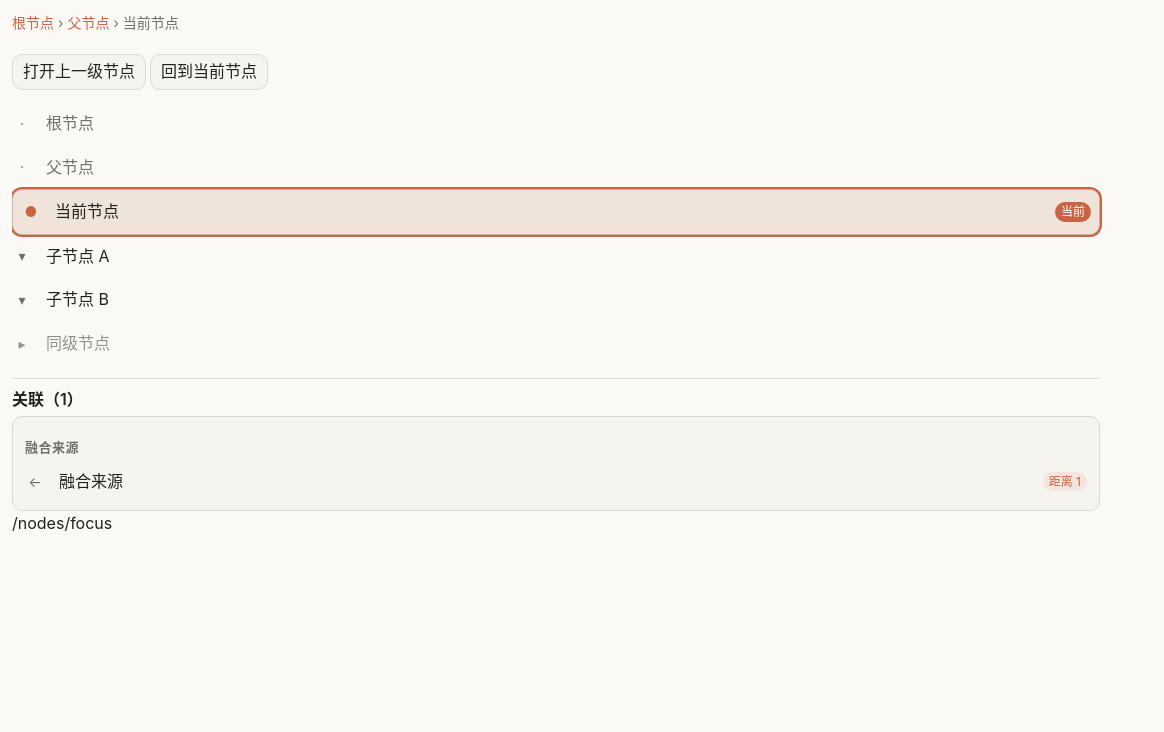
FocusLineage › 打开上一级节点出口跳转到直接上级；回到当前节点把 roving 焦点移回
Expected: the list named "专注脉络" is shown, x1=12 y1=102 x2=1100 y2=366
Click the button with test id "focus-open-parent".
click(79, 72)  # box x1=12 y1=54 x2=146 y2=90
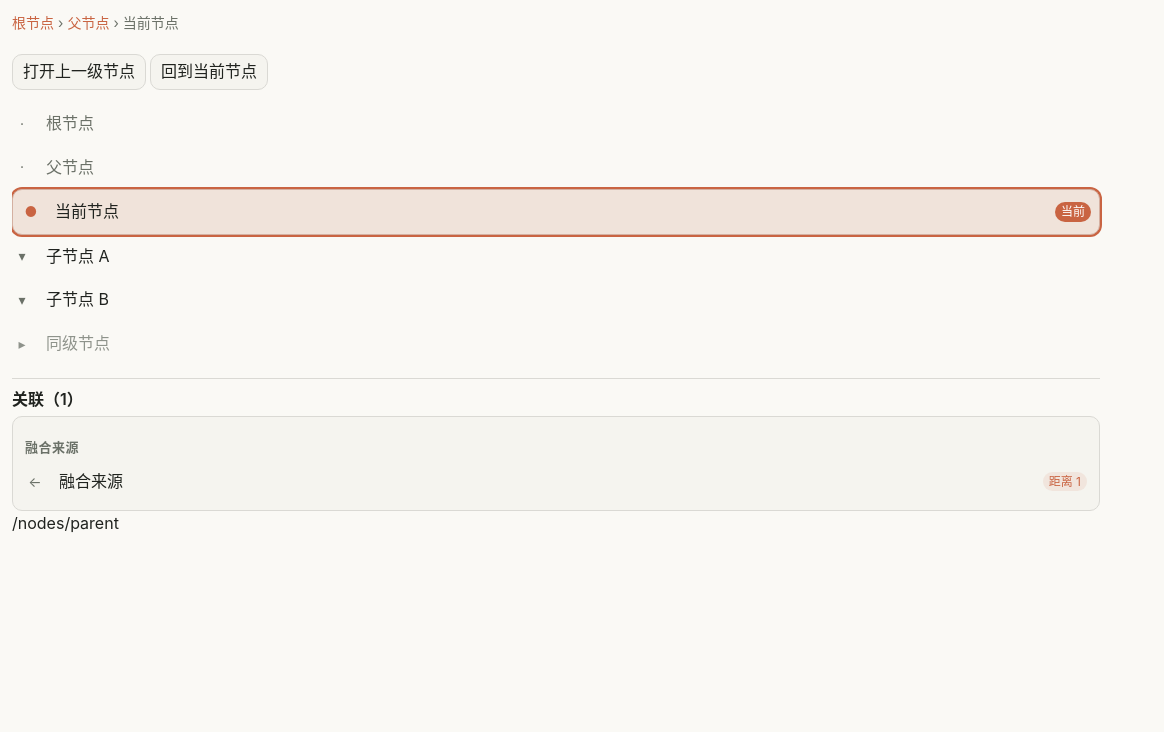
Result: the text with test id "location-probe" reads "/nodes/parent" at x1=12 y1=512 x2=119 y2=532
